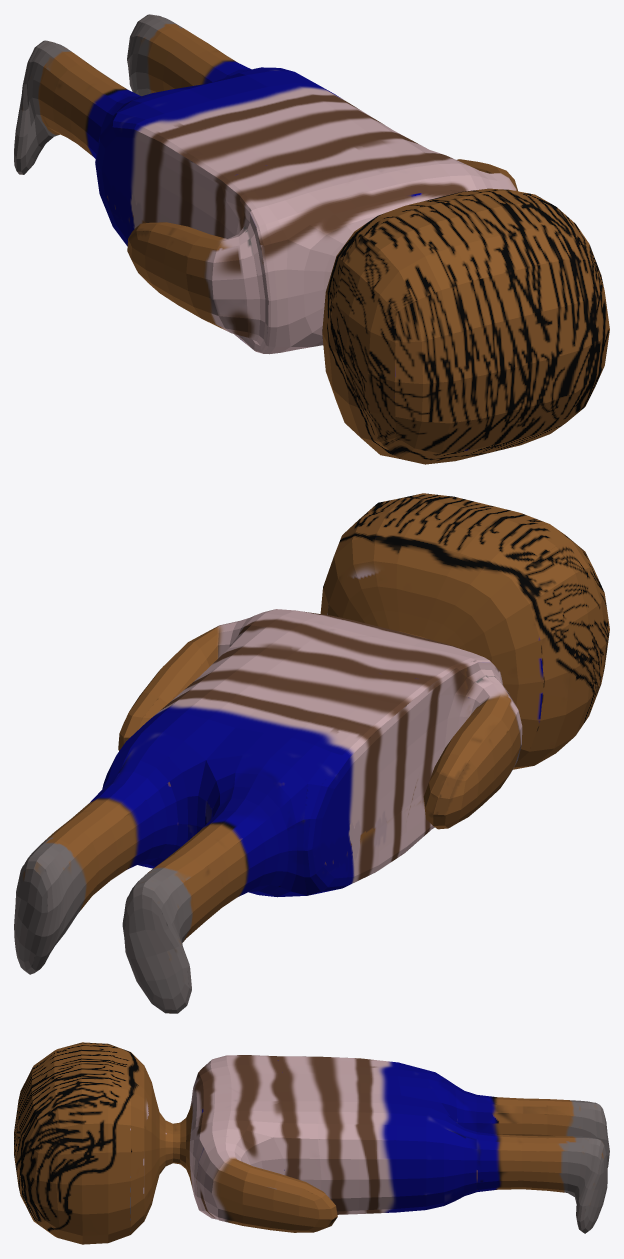
Rendered from antman_stand_8.obj.
3 renders of one model, top to bottom at view 1: azimuth 30°, elevation 25°; view 2: azimuth 150°, elevation 25°; view 3: azimuth 270°, elevation 25°, orthographic. The views are drawn at different scales.
Parts seen in each view (by area): view 1: Cube; view 2: Cube; view 3: Cube.
Part boxes in pixels (<box>): Cube: <box>14,14,609,464</box>; Cube: <box>14,493,609,1013</box>; Cube: <box>14,1042,609,1244</box>.
Size of the model in its own units: 0.8834 by 0.5834 by 1.93.
